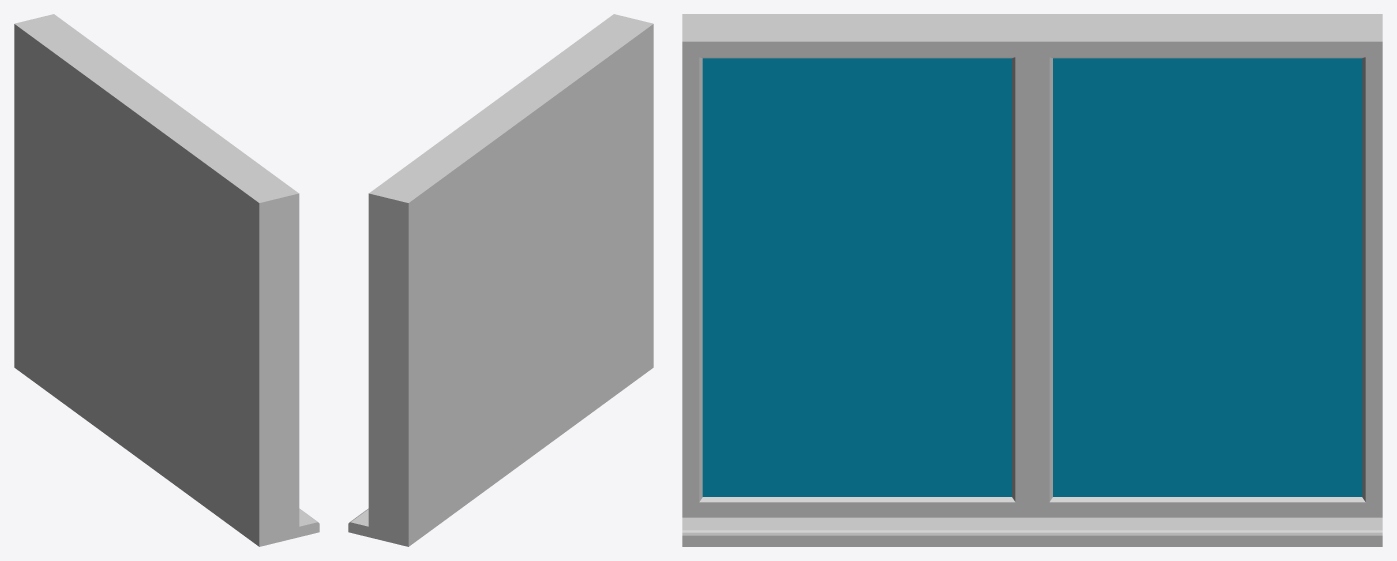
Rendered from window.fbx.
3 renders of one model, left to right at view 1: azimuth 30°, elevation 25°; view 2: azimuth 150°, elevation 25°; view 3: azimuth 270°, elevation 25°, orthographic. The views are drawn at different scales.
Parts seen in each view (by area): view 1: Cube; view 2: Cube; view 3: Cube.
Part boxes in pixels (<box>): Cube: <box>14,14,319,546</box>; Cube: <box>348,14,653,546</box>; Cube: <box>682,14,1382,546</box>.
Bounding box in the file's own units: 45.51 × 248 × 320.
